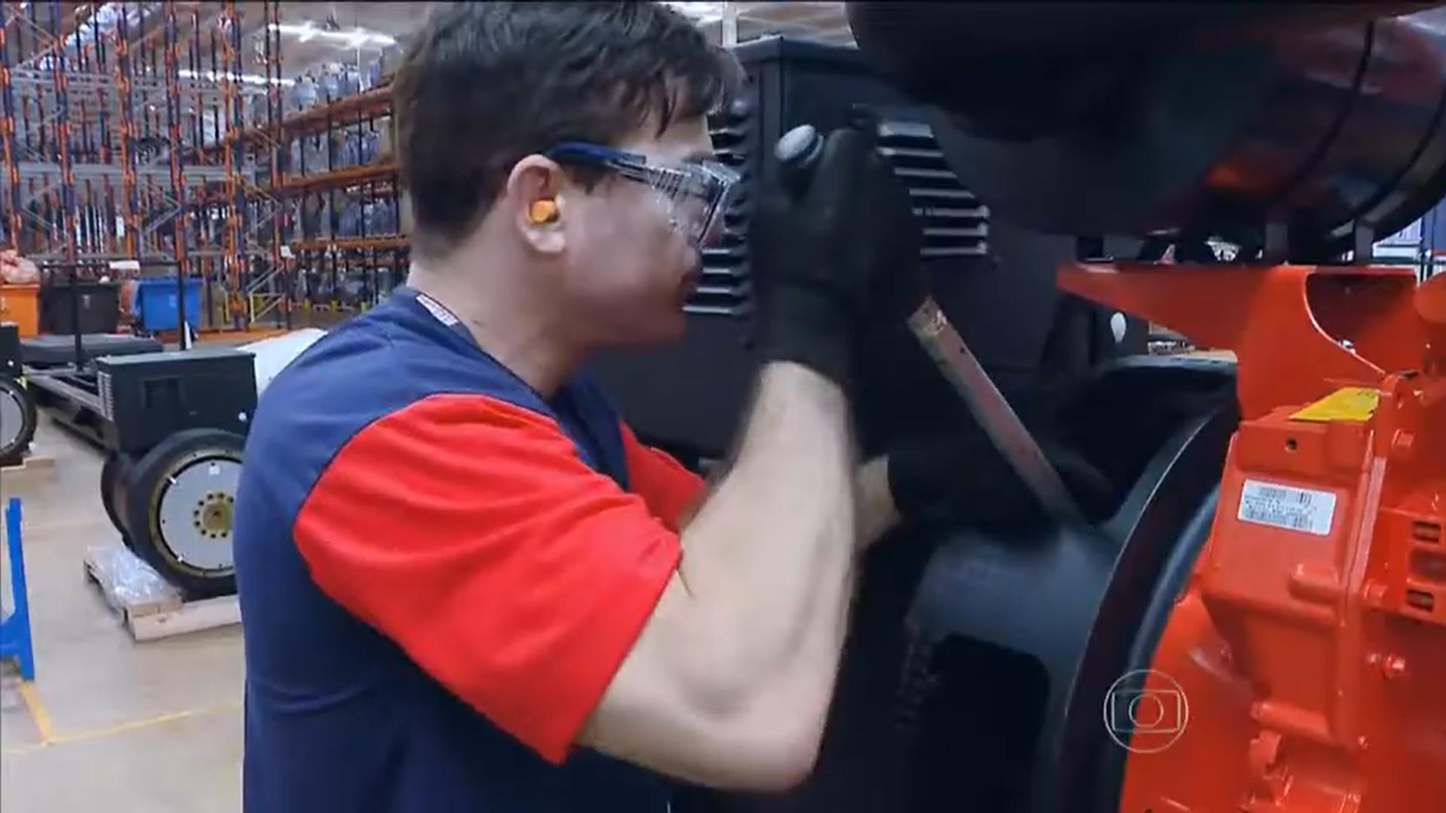gloves: (752, 121, 903, 333), (871, 406, 1071, 544)
goggles: (559, 122, 739, 238)
